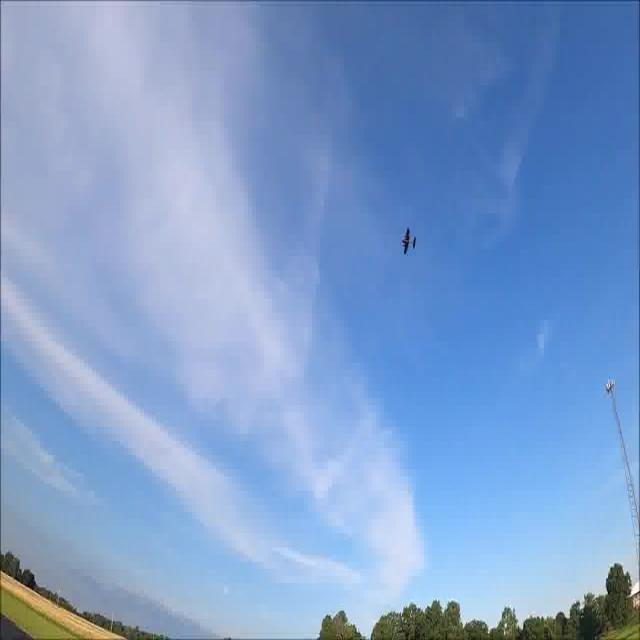iha: (397, 224, 423, 262)
